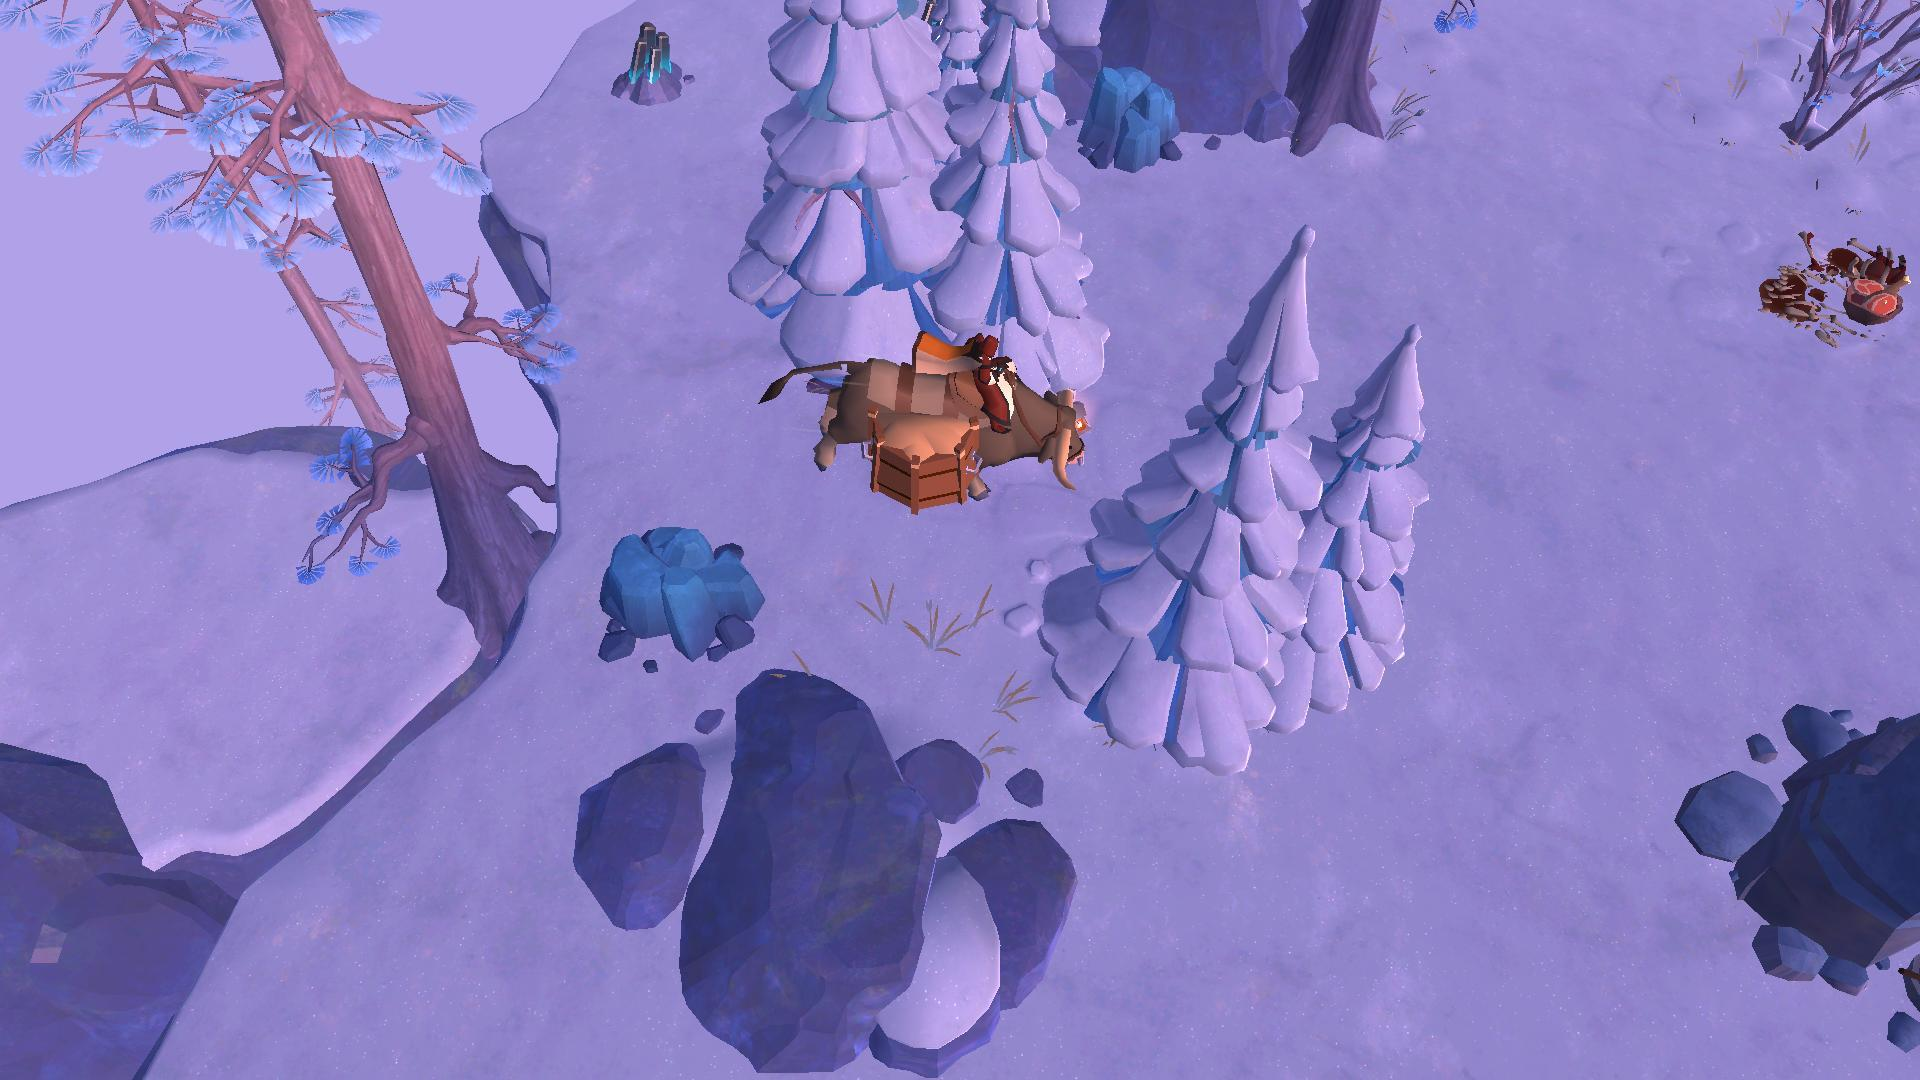ore_t4: (617, 21, 682, 84)
rock_t4: (597, 525, 762, 661), (1068, 61, 1187, 178)
